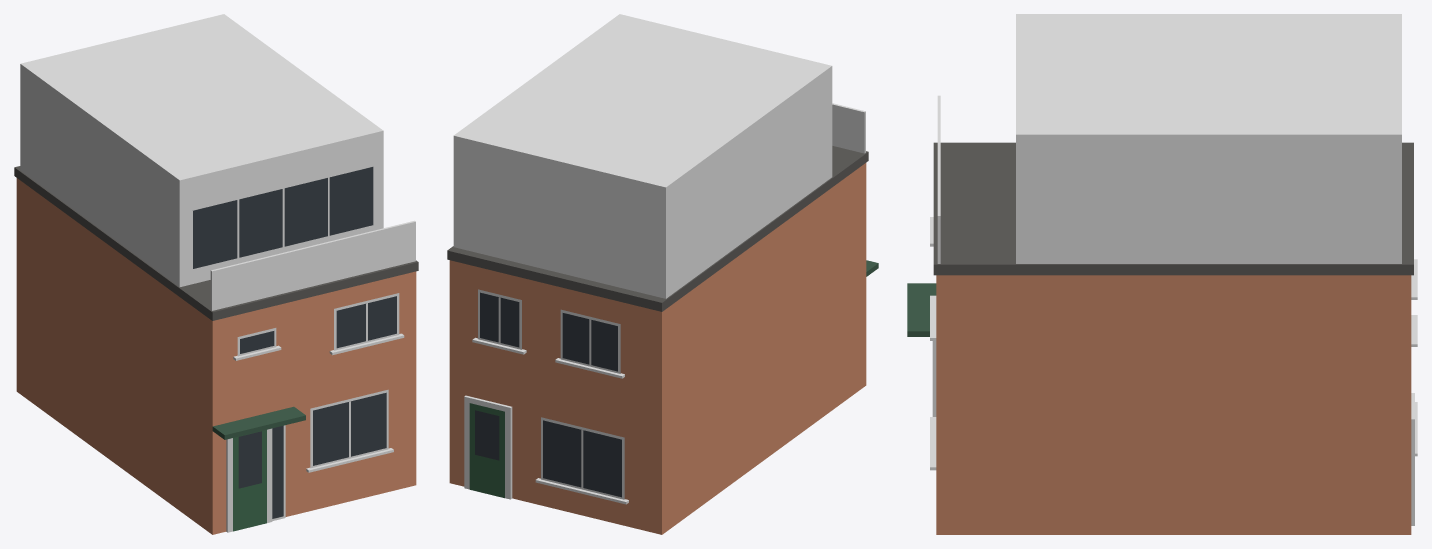
Rendered from nw-aw-lameye__orange__2__flat__long__solid.glb.
3 views of the same model, side by side, from view 1: azimuth 30°, elevation 25°; view 2: azimuth 150°, elevation 25°; view 3: azimuth 270°, elevation 25° (orthographic). The views are drawn at different scales.
Parts seen in each view (by area): view 1: nw-aw-lameye__orange__2__flat__long__solid; view 2: nw-aw-lameye__orange__2__flat__long__solid; view 3: nw-aw-lameye__orange__2__flat__long__solid.
Part boxes in pixels (<box>): nw-aw-lameye__orange__2__flat__long__solid: <box>14,14,418,534</box>; nw-aw-lameye__orange__2__flat__long__solid: <box>447,14,878,534</box>; nw-aw-lameye__orange__2__flat__long__solid: <box>907,14,1417,534</box>.
Size of the model in its own units: 5.45 by 8.35 by 9.64.
